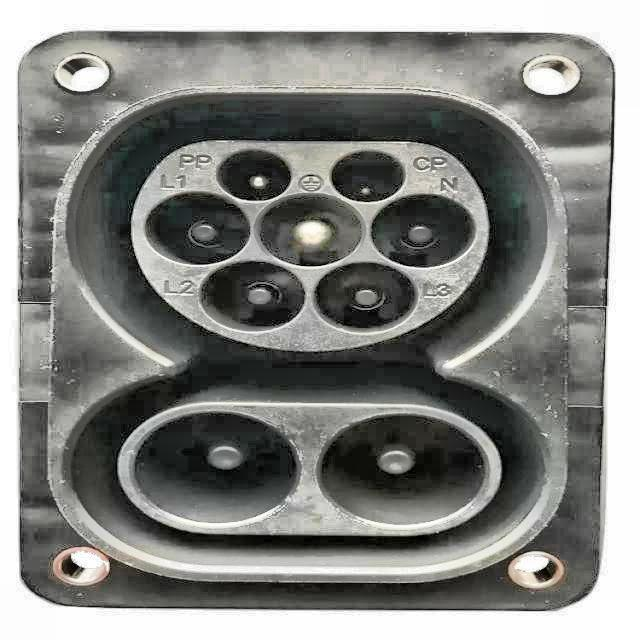inlet: (132, 141, 491, 352)
inlet-above-left: (217, 149, 293, 201)
inlet-above-right: (330, 149, 404, 203)
inlet-below-left: (200, 261, 305, 332)
inlet-below-right: (313, 262, 417, 333)
inlet-center: (257, 193, 364, 268)
inlet-center-left: (143, 191, 249, 266)
inlet-center-right: (372, 194, 474, 268)
